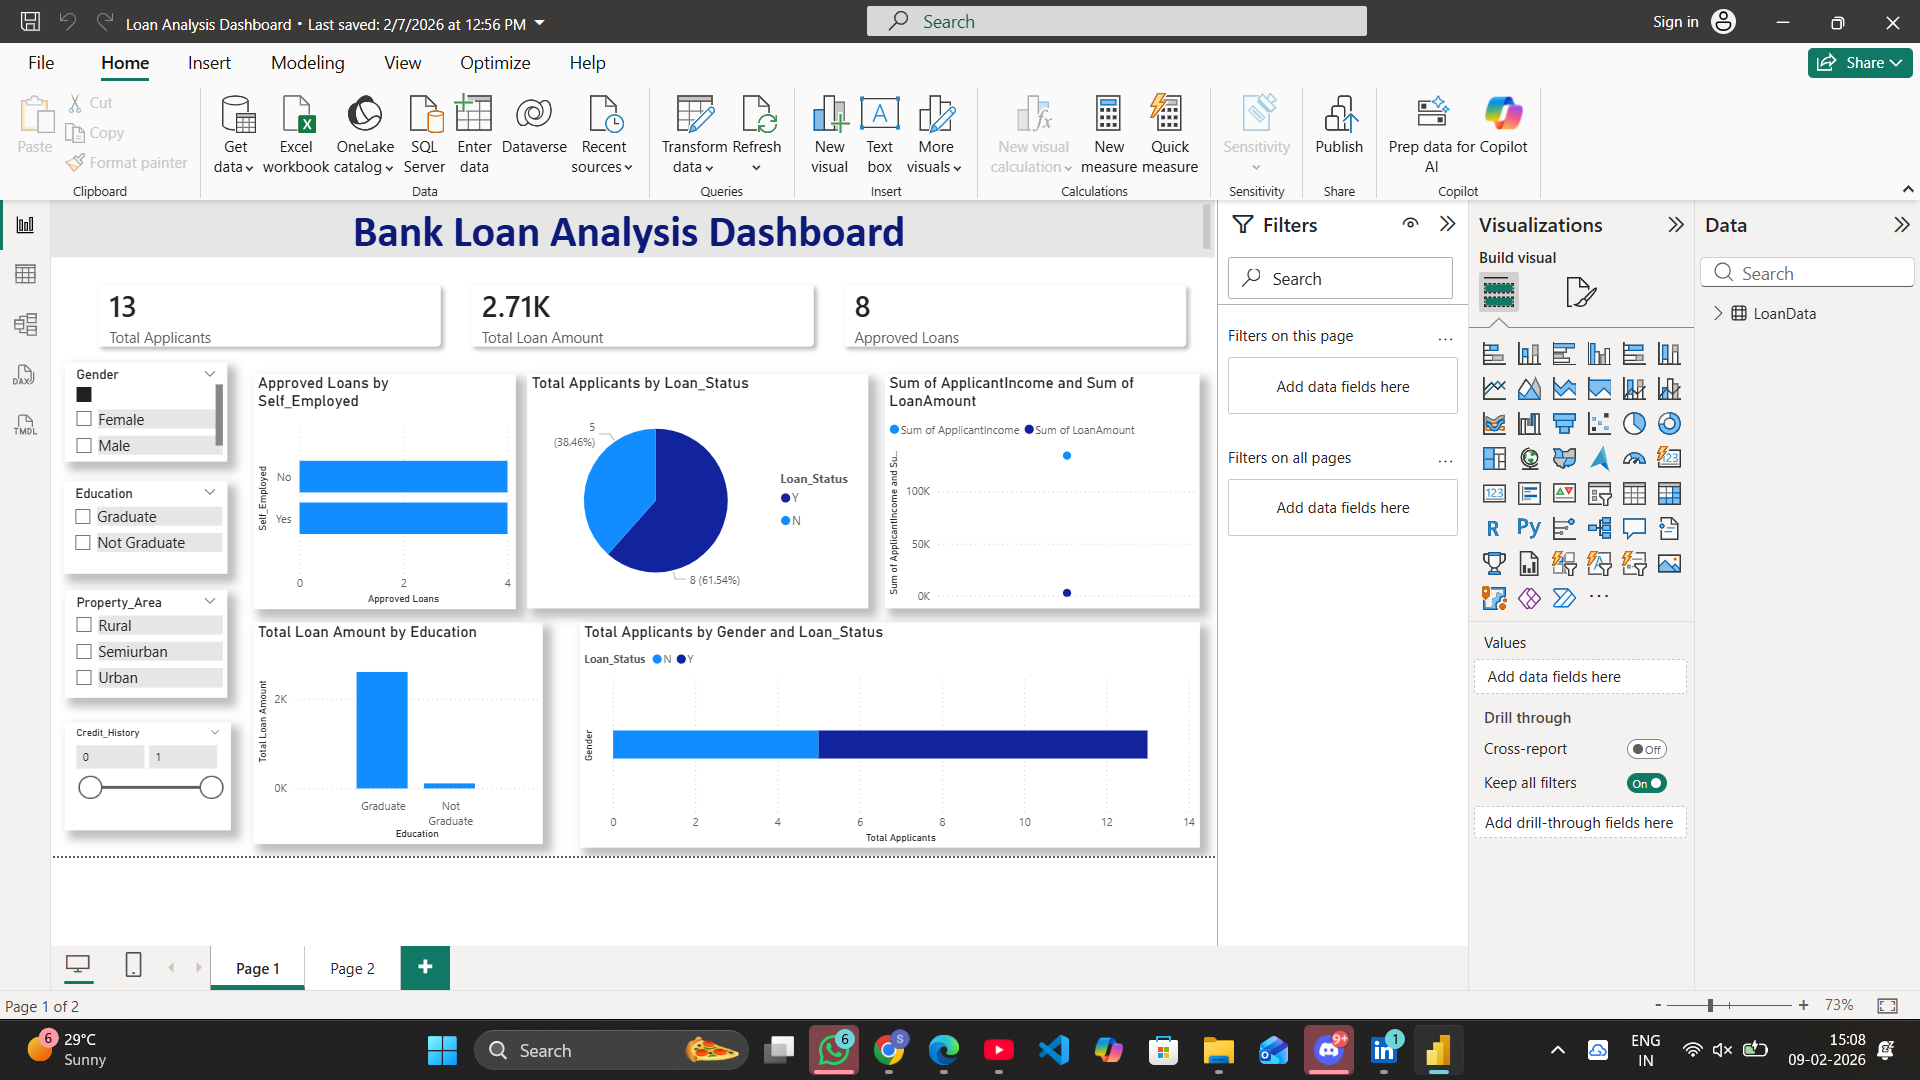

Layout of this report page (visuals, bound fields, positions):
{"tool":"powerbi","page":{"name":"Page 1","canvas":[1280,720],"ordinal":0},"visuals":[{"type":"cardVisual","fields":{"Data":["LoanData.Total Applicants","LoanData.Total Loan Amount","LoanData.Approved Loans"]},"box":[22,63.1,1255.6,127.6],"z":0},{"type":"barChart","fields":{"Category":["LoanData.Self_Employed"],"Y":["LoanData.Approved Loans"]},"box":[222.6,190.8,288,258.1],"z":1000},{"type":"columnChart","fields":{"Category":["LoanData.Education"],"Y":["LoanData.Total Loan Amount"]},"box":[222.6,463.8,317.9,243.1],"z":2000},{"type":"pieChart","fields":{"Category":["LoanData.Loan_Status"],"Y":["LoanData.Total Applicants"]},"box":[522.8,190.7,374.6,258],"z":2001},{"type":"lineChart","fields":{"Y":["LoanData.ApplicantIncome","LoanData.LoanAmount"]},"box":[915.3,190.7,345.8,258],"z":2002},{"type":"barChart","fields":{"Category":["LoanData.Gender"],"Series":["LoanData.Loan_Status"],"Y":["LoanData.Total Applicants"]},"box":[580.4,463.8,680.6,247],"z":2003},{"type":"slicer","fields":{"Values":["LoanData.Gender"]},"box":[15.1,178.4,178.4,108.4],"z":2004},{"type":"slicer","fields":{"Values":["LoanData.Education"]},"box":[13.7,308.7,179.8,101.5],"z":2005},{"type":"slicer","fields":{"Values":["LoanData.Property_Area"]},"box":[15.1,428.1,178.4,118],"z":2006},{"type":"slicer","fields":{"Values":["LoanData.Credit_History"]},"box":[15.1,573.6,182.5,118],"z":2007},{"type":"shape","box":[130.8,0,1107.9,55],"z":2008},{"type":"textbox","box":[0,0,1277.9,63.6],"z":2009}]}

Visuals, with their boxes on the page's 1280x720 design canvas (x1, y1, x2, y2). These are canvas units, not pixel positions in the 1920x1080 screenshot, which may show the page scaled, cropped or inside an application window:
cardVisual - LoanData.Total Applicants x LoanData.Total Loan Amount: 22, 63, 1278, 191
barChart - LoanData.Self_Employed x LoanData.Approved Loans: 223, 191, 511, 449
columnChart - LoanData.Education x LoanData.Total Loan Amount: 223, 464, 540, 707
pieChart - LoanData.Loan_Status x LoanData.Total Applicants: 523, 191, 897, 449
lineChart - LoanData.ApplicantIncome x LoanData.LoanAmount: 915, 191, 1261, 449
barChart - LoanData.Gender x LoanData.Loan_Status: 580, 464, 1261, 711
slicer - LoanData.Gender: 15, 178, 194, 287
slicer - LoanData.Education: 14, 309, 194, 410
slicer - LoanData.Property_Area: 15, 428, 194, 546
slicer - LoanData.Credit_History: 15, 574, 198, 692
shape: 131, 0, 1239, 55
textbox: 0, 0, 1278, 64
